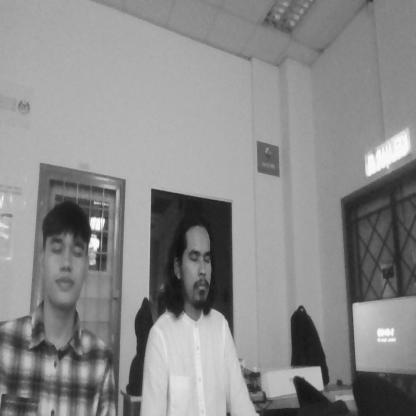Closed-Eyes: (44, 230, 90, 264), (186, 245, 214, 270)
